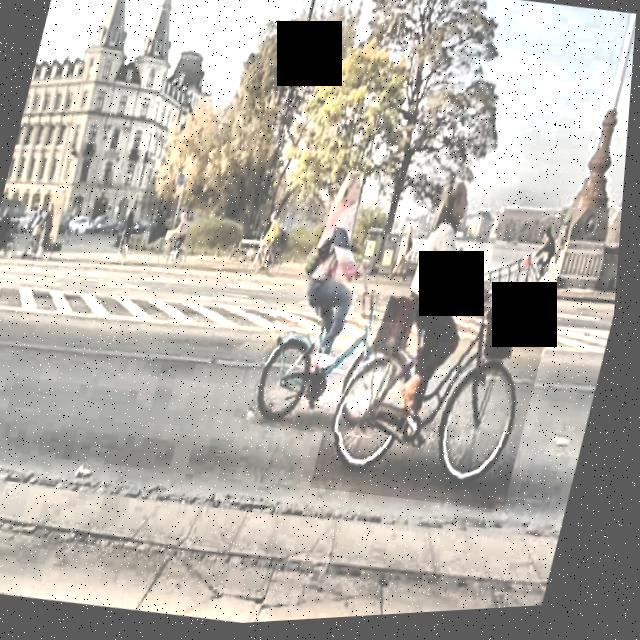bicycle: (315, 287, 559, 528), (251, 308, 405, 449)
